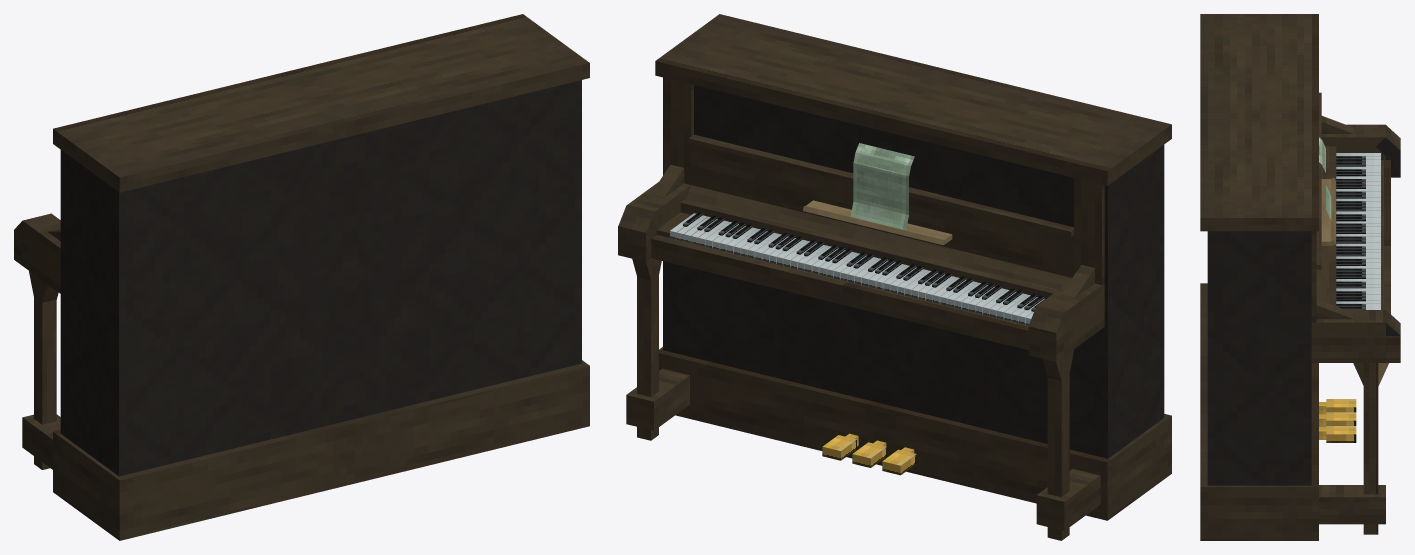
Rendered from piano.glb.
3 renders of one model, left to right at view 1: azimuth 30°, elevation 25°; view 2: azimuth 150°, elevation 25°; view 3: azimuth 270°, elevation 25°, orthographic. The views are drawn at different scales.
Visible parts, largest first — view 1: Object_2, Object_3; view 2: Object_3, Object_2, Object_4; view 3: Object_3, Object_2, Object_4.
Part boxes in pixels (left/top/right/bottom): Object_2: left=19, top=80, right=581, bottom=476; Object_3: left=14, top=14, right=589, bottom=540; Object_3: left=618, top=14, right=1171, bottom=540; Object_2: left=646, top=77, right=1164, bottom=458; Object_4: left=670, top=143, right=1047, bottom=475; Object_3: left=1200, top=14, right=1400, bottom=540; Object_2: left=1207, top=137, right=1400, bottom=485; Object_4: left=1319, top=137, right=1380, bottom=442.
Size of the model in its own units: 32.5 by 24 by 13.5.
Materials: 3 (3 with a texture image).
